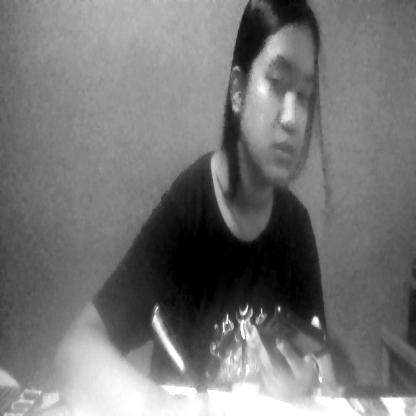Distracted: (222, 5, 338, 227)
